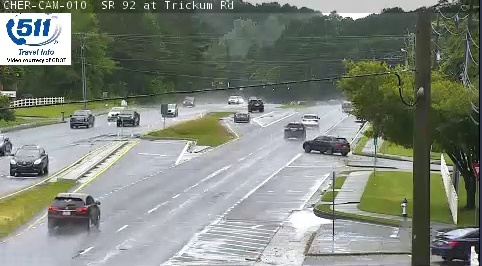car: (47, 193, 100, 227), (283, 122, 305, 140), (301, 114, 319, 129), (233, 110, 250, 123)
